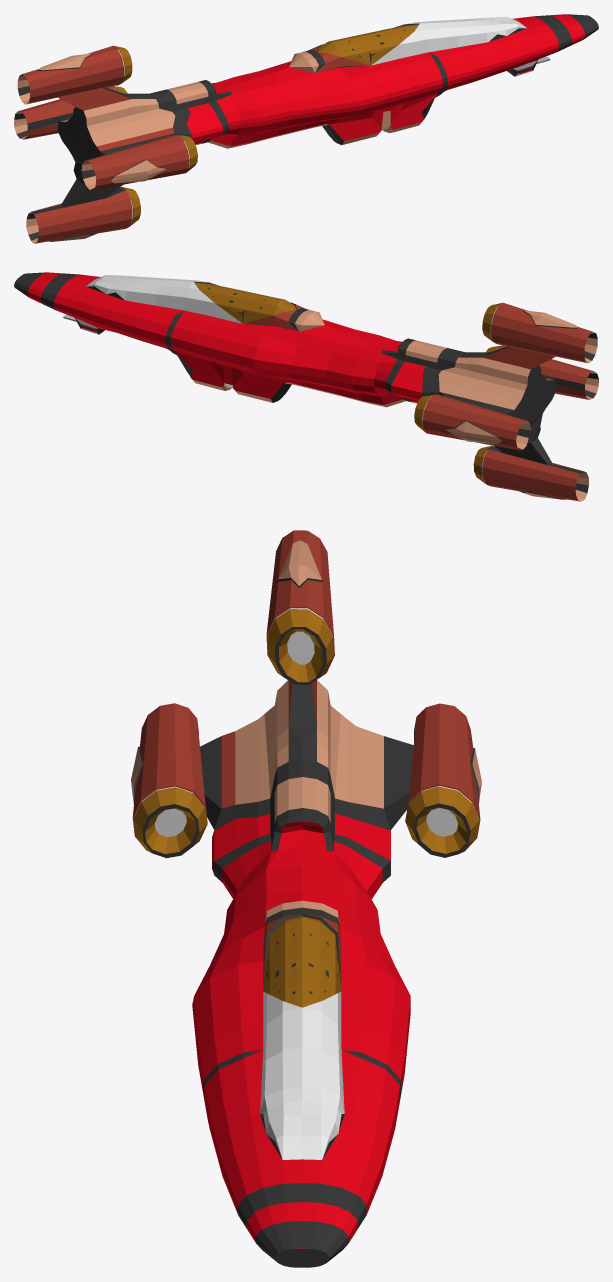
File: CargoUpg.fbx
The picture shows the model from 3 angles, top to bottom: view 1: azimuth 30°, elevation 25°; view 2: azimuth 150°, elevation 25°; view 3: azimuth 270°, elevation 25°; orthographic projection. The views are drawn at different scales.
Visible parts, largest first — view 1: Weapon.002; view 2: Weapon.002; view 3: Weapon.002.
Boxes of the visible parts, x1,y1,x2,y2 form: Weapon.002: [14, 14, 598, 243]; Weapon.002: [14, 272, 598, 501]; Weapon.002: [131, 530, 481, 1267].
Bounding box in the file's own units: 471 × 144 × 126.
